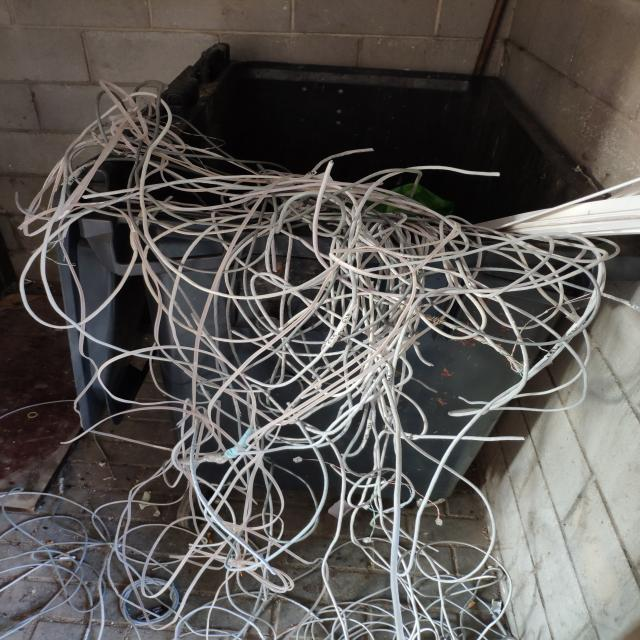entulho: (62, 140, 594, 422), (70, 400, 403, 640), (471, 178, 640, 246)
